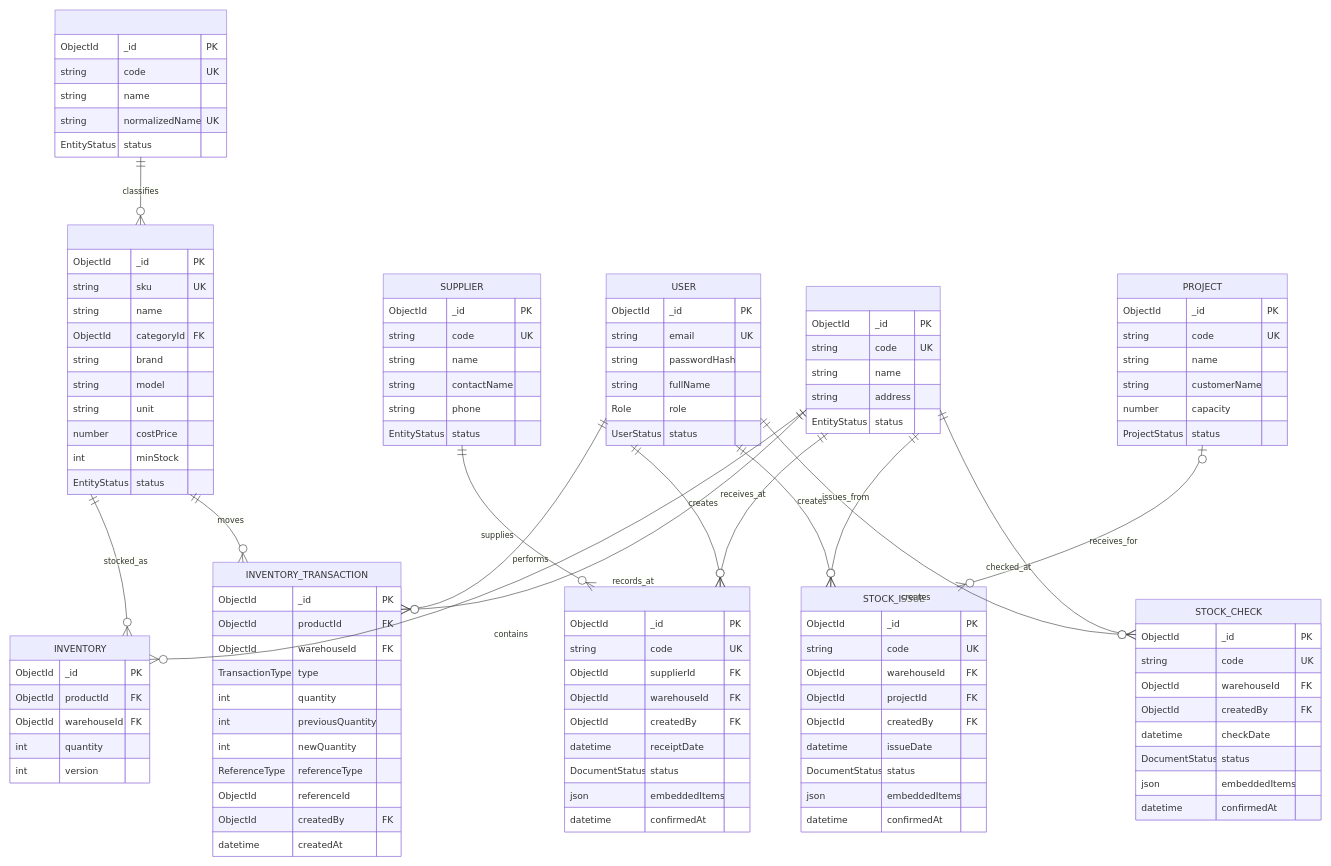
Some shapes in this 1331 by 866 pixel diagram are drawn without their labels. Each missing label, with the box of its shape:
CATEGORY: (54, 9, 227, 157)
PRODUCT: (67, 224, 213, 494)
STOCK_RECEIPT: (564, 586, 750, 832)
WAREHOUSE: (806, 286, 940, 433)
